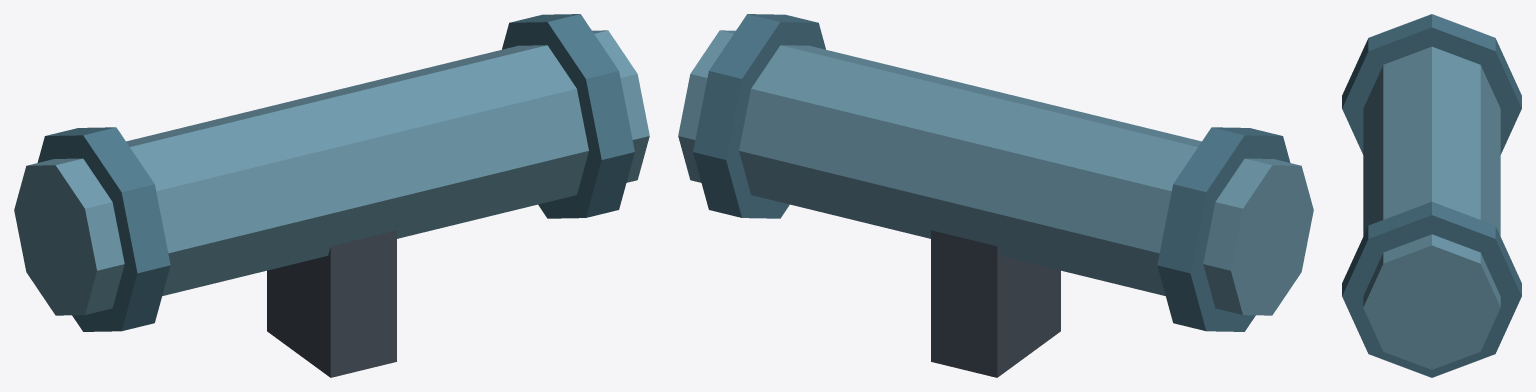
The model's file is pipe.glb.
3 renders of one model, left to right at view 1: azimuth 30°, elevation 25°; view 2: azimuth 150°, elevation 25°; view 3: azimuth 270°, elevation 25°, orthographic. The views are drawn at different scales.
Parts seen in each view (by area): view 1: pipe; view 2: pipe; view 3: pipe.
Part boxes in pixels (bbox=[...]): pipe: bbox=[14, 14, 649, 377]; pipe: bbox=[678, 14, 1313, 377]; pipe: bbox=[1342, 14, 1521, 377].
Size of the model in its own units: 1 by 0.47 by 0.34.
